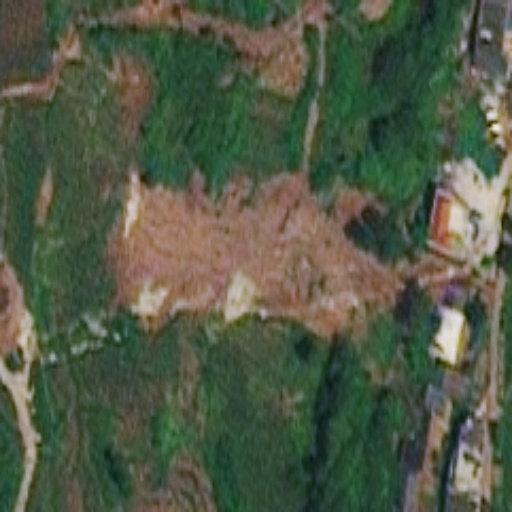landslide: (106, 180, 406, 333), (209, 16, 315, 102), (106, 47, 157, 146), (83, 1, 212, 30), (1, 260, 26, 363)
